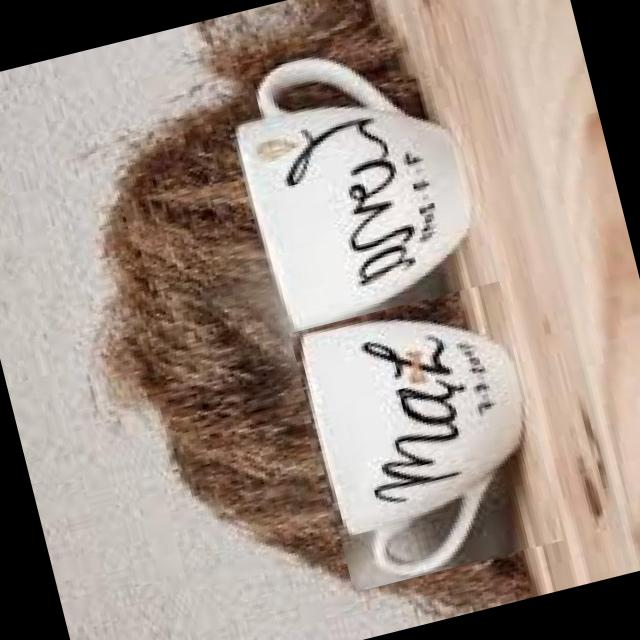Coffee Mug: (212, 22, 494, 336), (288, 286, 560, 592)
